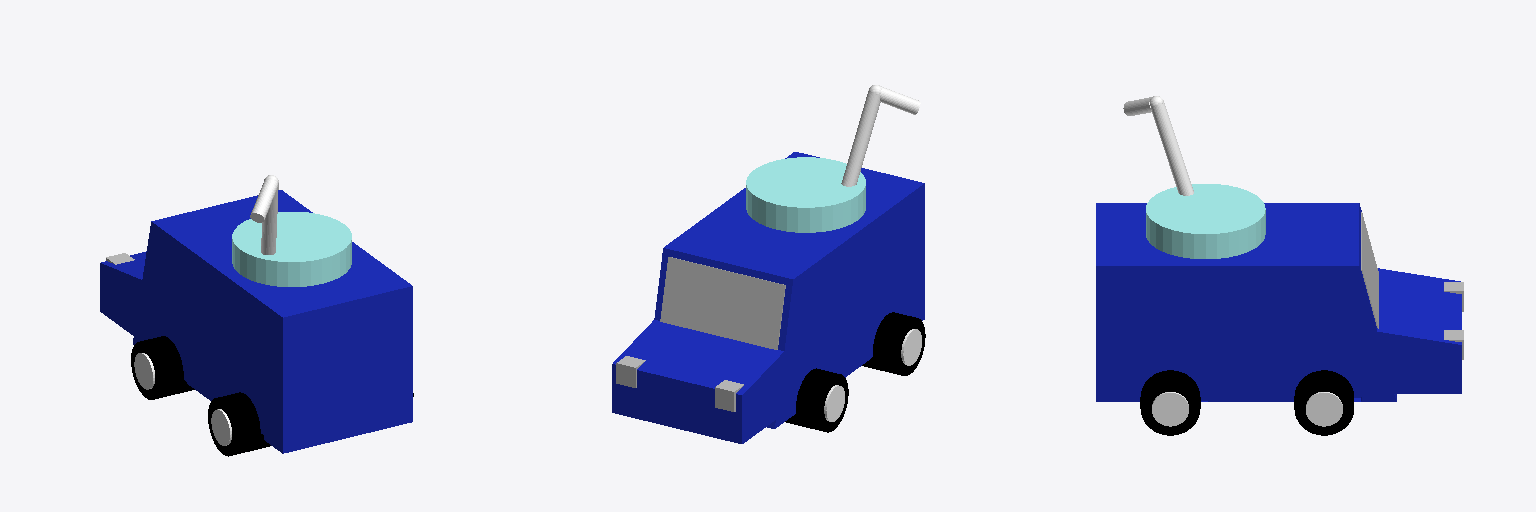
The model's file is truck2.obj.
3 views of the same model, side by side, from view 1: azimuth 30°, elevation 25°; view 2: azimuth 150°, elevation 25°; view 3: azimuth 270°, elevation 25° (orthographic).
Parts seen in each view (by area): view 1: Cube, Cylinder.008_Cylinder.011, Cube.001, Cylinder.001, Cylinder.003, Cylinder.009, Cylinder.004, Cylinder.007; view 2: Cube, Cube.001, Cube.002, Cylinder.008_Cylinder.011, Cylinder.003, Cylinder.001, Cylinder.009, Cube.004, Cube.003, Cylinder.007, Cylinder.004; view 3: Cube, Cube.001, Cylinder.008_Cylinder.011, Cylinder, Cylinder.002, Cylinder.009, Cube.002, Cylinder.005, Cylinder.006.
Boxes of the visible parts, x1=… form: Cube: x1=133, y1=190, x2=412, y2=453; Cylinder.008_Cylinder.011: x1=232, y1=212, x2=351, y2=286; Cube.001: x1=100, y1=251, x2=181, y2=346; Cylinder.001: x1=208, y1=392, x2=270, y2=456; Cylinder.003: x1=131, y1=336, x2=194, y2=399; Cylinder.009: x1=250, y1=175, x2=278, y2=254; Cylinder.004: x1=134, y1=353, x2=154, y2=389; Cylinder.007: x1=211, y1=409, x2=231, y2=445; Cube: x1=654, y1=152, x2=924, y2=428; Cube.001: x1=612, y1=312, x2=823, y2=443; Cube.002: x1=660, y1=257, x2=785, y2=349; Cylinder.008_Cylinder.011: x1=746, y1=157, x2=865, y2=232; Cylinder.003: x1=785, y1=368, x2=848, y2=432; Cylinder.001: x1=862, y1=312, x2=925, y2=375; Cylinder.009: x1=841, y1=85, x2=920, y2=186; Cube.004: x1=616, y1=356, x2=645, y2=387; Cube.003: x1=715, y1=380, x2=743, y2=411; Cylinder.007: x1=901, y1=329, x2=921, y2=365; Cylinder.004: x1=824, y1=385, x2=844, y2=421; Cube: x1=1096, y1=203, x2=1396, y2=401; Cube.001: x1=1297, y1=268, x2=1461, y2=393; Cylinder.008_Cylinder.011: x1=1146, y1=184, x2=1265, y2=258; Cylinder: x1=1140, y1=370, x2=1200, y2=435; Cylinder.002: x1=1294, y1=370, x2=1353, y2=435; Cylinder.009: x1=1123, y1=96, x2=1193, y2=195; Cube.002: x1=1361, y1=212, x2=1378, y2=328; Cylinder.005: x1=1306, y1=392, x2=1342, y2=426; Cylinder.006: x1=1152, y1=392, x2=1188, y2=426.
Size of the model in its own units: 2.77 by 4.02 by 4.89.